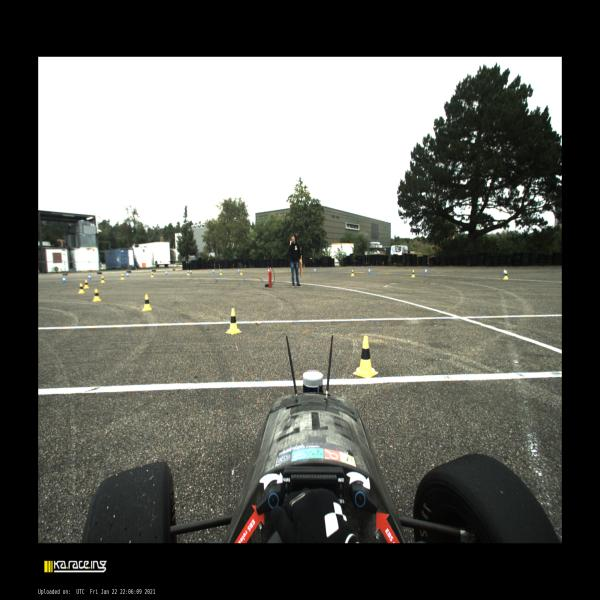blue_cone: (62, 276, 66, 283), (502, 268, 506, 275), (88, 274, 92, 280), (424, 268, 428, 274), (368, 267, 371, 274), (126, 272, 129, 277), (166, 270, 168, 275), (190, 269, 192, 274), (238, 268, 240, 273), (314, 268, 316, 273), (212, 269, 214, 273), (268, 268, 269, 272)
yellow_cone: (352, 335, 378, 378), (226, 308, 241, 335), (142, 294, 152, 311), (92, 290, 100, 301), (78, 284, 85, 294), (503, 271, 509, 280), (100, 276, 106, 283), (84, 280, 89, 288), (411, 270, 416, 278), (120, 274, 125, 280), (150, 272, 154, 278), (351, 269, 354, 277), (187, 270, 190, 276), (220, 270, 222, 275), (241, 269, 242, 275)
